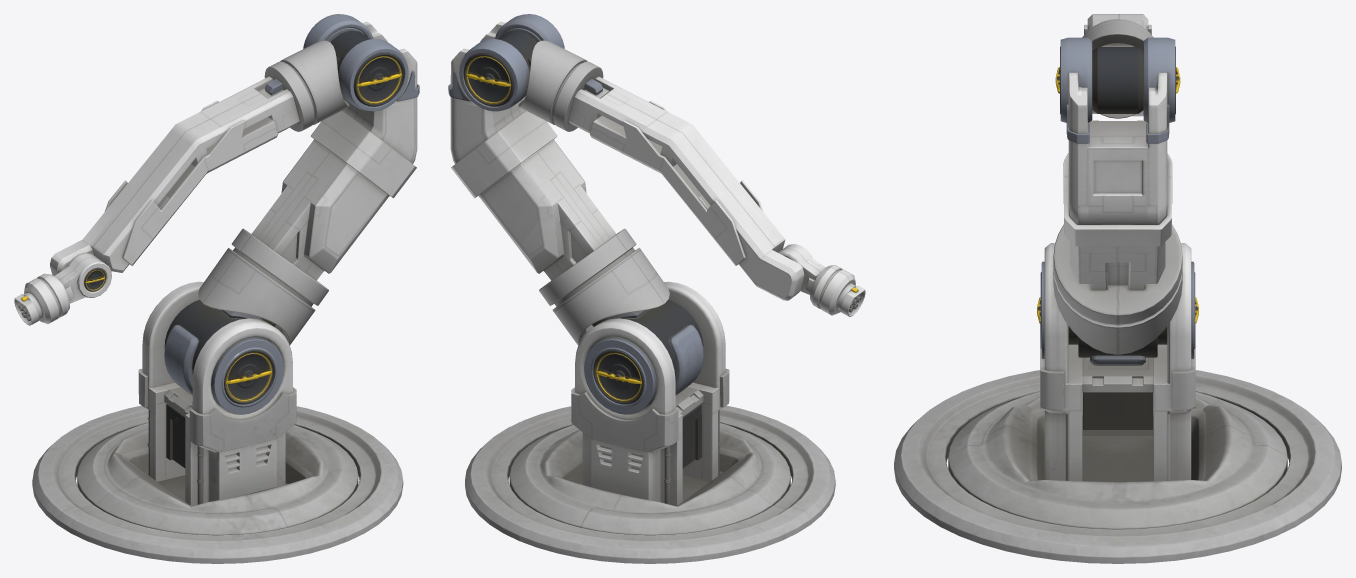
3 views of the same model, side by side, from view 1: azimuth 30°, elevation 25°; view 2: azimuth 150°, elevation 25°; view 3: azimuth 270°, elevation 25° (orthographic). The views are drawn at different scales.
Visible parts, largest first — view 1: base_circle_low, main2_low, base1_low, sub2_low, main1_low, sub3_low, sub1_low, base4_low, head1_low, joint1_low, joint2_low, main3_low (+7 smaller); view 2: base_circle_low, main2_low, base1_low, sub2_low, main1_low, sub3_low, sub1_low, base4_low, joint1_low, joint2_low, main3_low, head1_low (+7 smaller); view 3: base_circle_low, base1_low, main3_low, main1_low, main2_low, joint2_low, joint_low, base3_low, base2_low, base4_low, sub1_low, joint1_low (+3 smaller).
Part boxes in pixels (bbox=[...]): base_circle_low: bbox=[32, 405, 403, 563]; main2_low: bbox=[251, 111, 416, 280]; base1_low: bbox=[142, 281, 292, 505]; sub2_low: bbox=[50, 76, 299, 275]; main1_low: bbox=[198, 228, 328, 345]; sub3_low: bbox=[104, 100, 278, 265]; sub1_low: bbox=[264, 40, 349, 131]; base4_low: bbox=[138, 369, 296, 451]; head1_low: bbox=[14, 252, 111, 325]; joint1_low: bbox=[164, 300, 275, 395]; joint2_low: bbox=[303, 14, 408, 111]; main3_low: bbox=[342, 21, 417, 163]; base_circle_low: bbox=[465, 405, 835, 563]; main2_low: bbox=[451, 111, 616, 280]; base1_low: bbox=[575, 281, 725, 505]; sub2_low: bbox=[568, 76, 804, 300]; main1_low: bbox=[539, 228, 669, 345]; sub3_low: bbox=[590, 100, 763, 265]; sub1_low: bbox=[518, 40, 603, 131]; base4_low: bbox=[571, 368, 729, 451]; joint1_low: bbox=[592, 300, 703, 394]; joint2_low: bbox=[459, 14, 564, 111]; main3_low: bbox=[450, 21, 525, 163]; head1_low: bbox=[778, 244, 865, 316]; base_circle_low: bbox=[894, 370, 1341, 563]; base1_low: bbox=[1044, 243, 1191, 481]; main3_low: bbox=[1068, 72, 1167, 224]; main1_low: bbox=[1053, 224, 1182, 354]; main2_low: bbox=[1063, 153, 1172, 290]; joint2_low: bbox=[1060, 37, 1175, 122]; joint_low: bbox=[1092, 47, 1143, 113]; base3_low: bbox=[1083, 392, 1152, 429]; base2_low: bbox=[1082, 357, 1153, 392]; base4_low: bbox=[1040, 324, 1195, 410]; sub1_low: bbox=[1082, 19, 1153, 118]; joint1_low: bbox=[1068, 326, 1167, 365].
Bounding box in the file's own units: 1.2 × 1.24 × 0.9922.
1 material, 1 textured.
